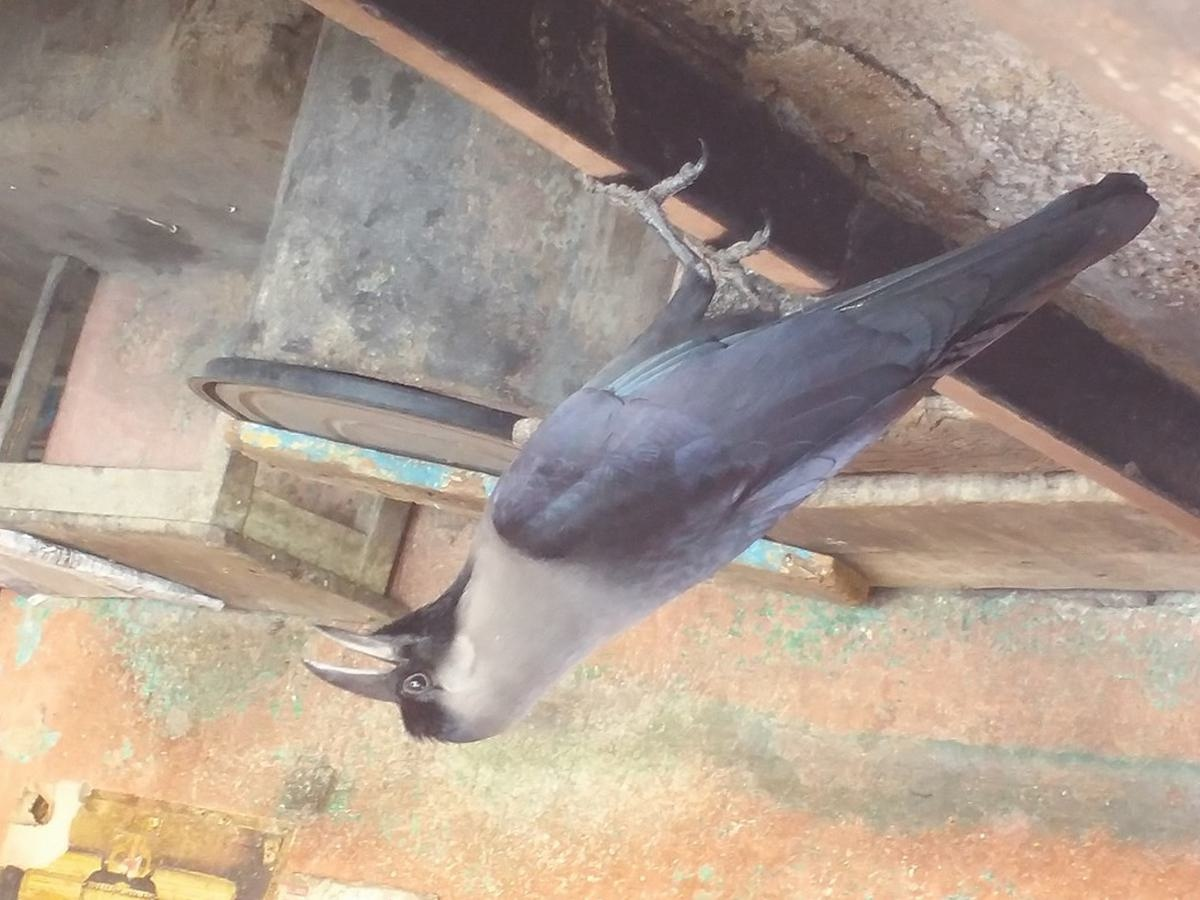crow: (298, 131, 1171, 746)
